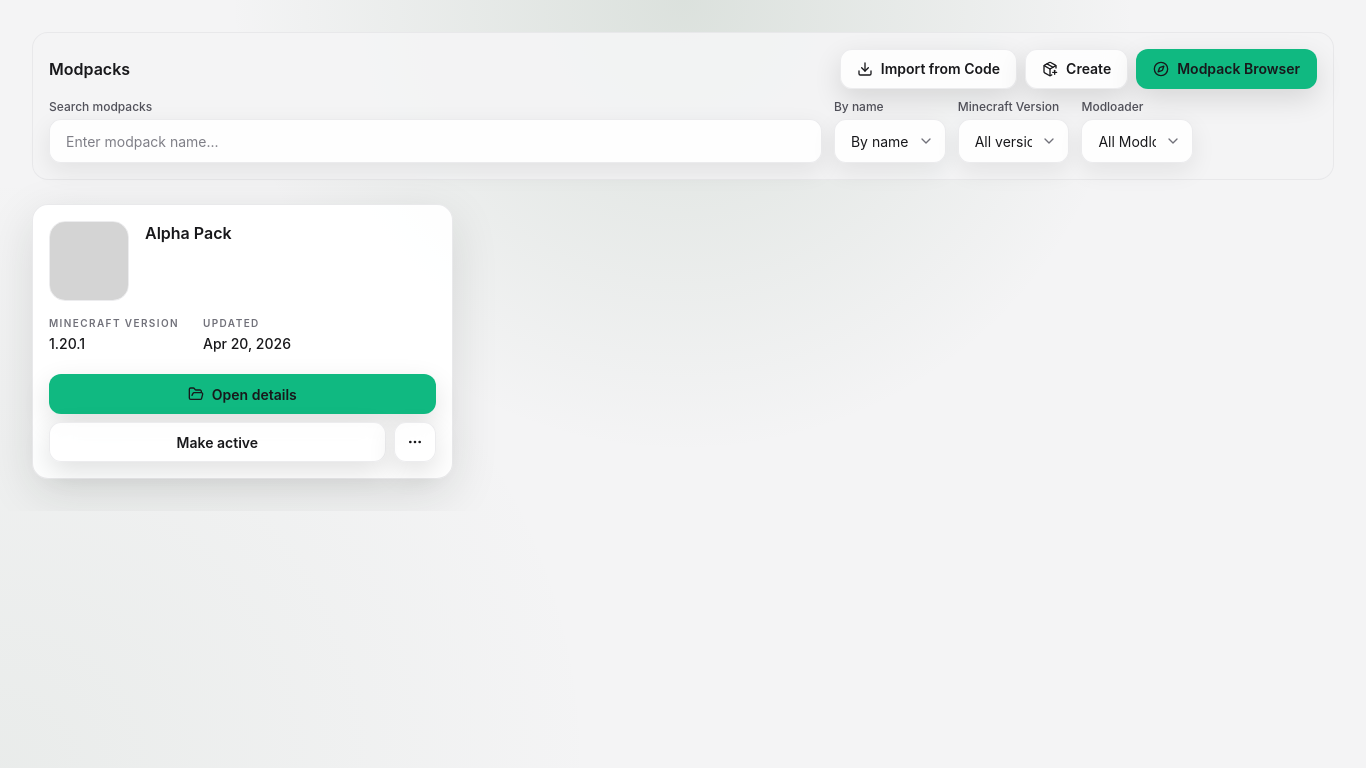
Test: ModpackList degraded states › keeps search zero-results separate from the true empty installed-catalog state
expect the heading "Alpha Pack" is shown: met, box [145, 223, 232, 243]
Step 1. Type "zzz" into the field labelled "Enter modpack name..." → (435, 141), box [49, 119, 822, 163]
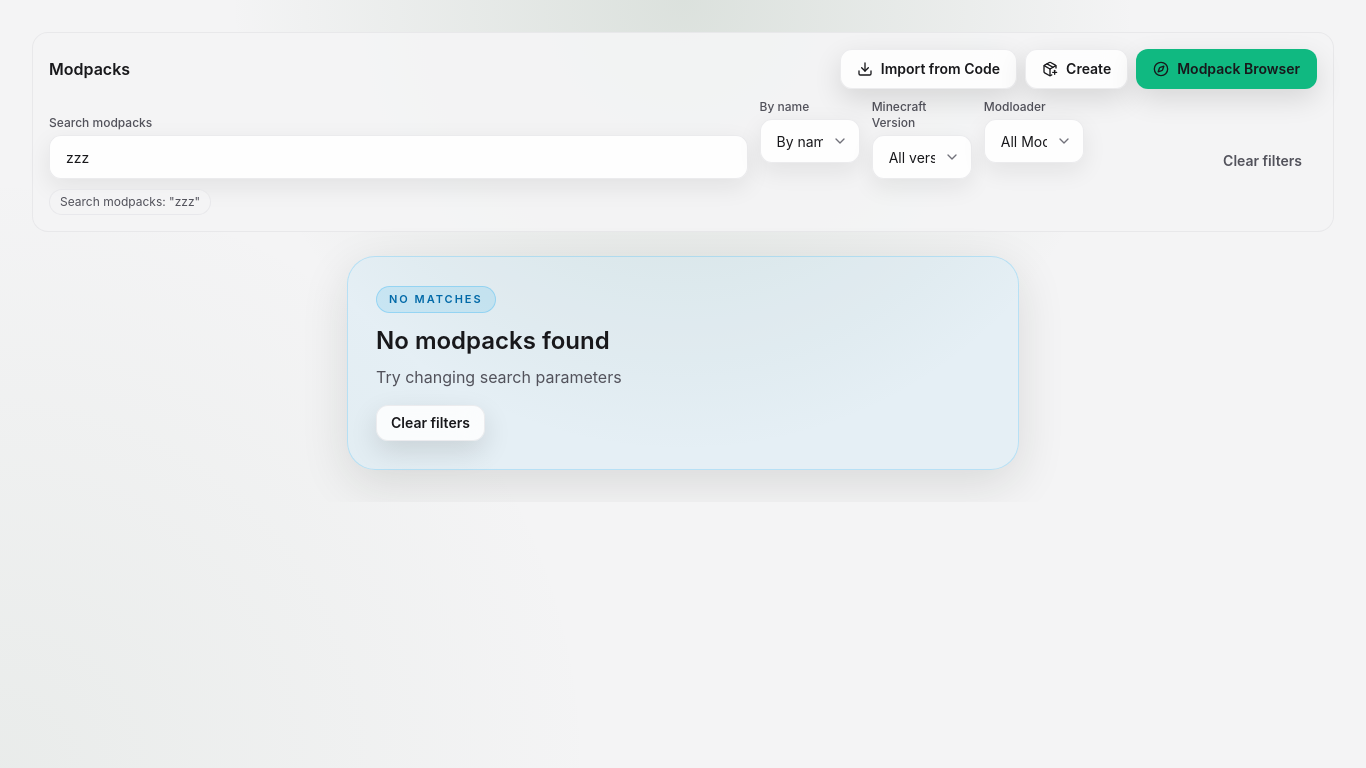
expect the message "No modpacks found" is shown: met, box [347, 256, 1019, 470]
Step 2. Click the button "Clear filters" below "Try changing search parameters" → click(430, 422), box [376, 404, 485, 440]
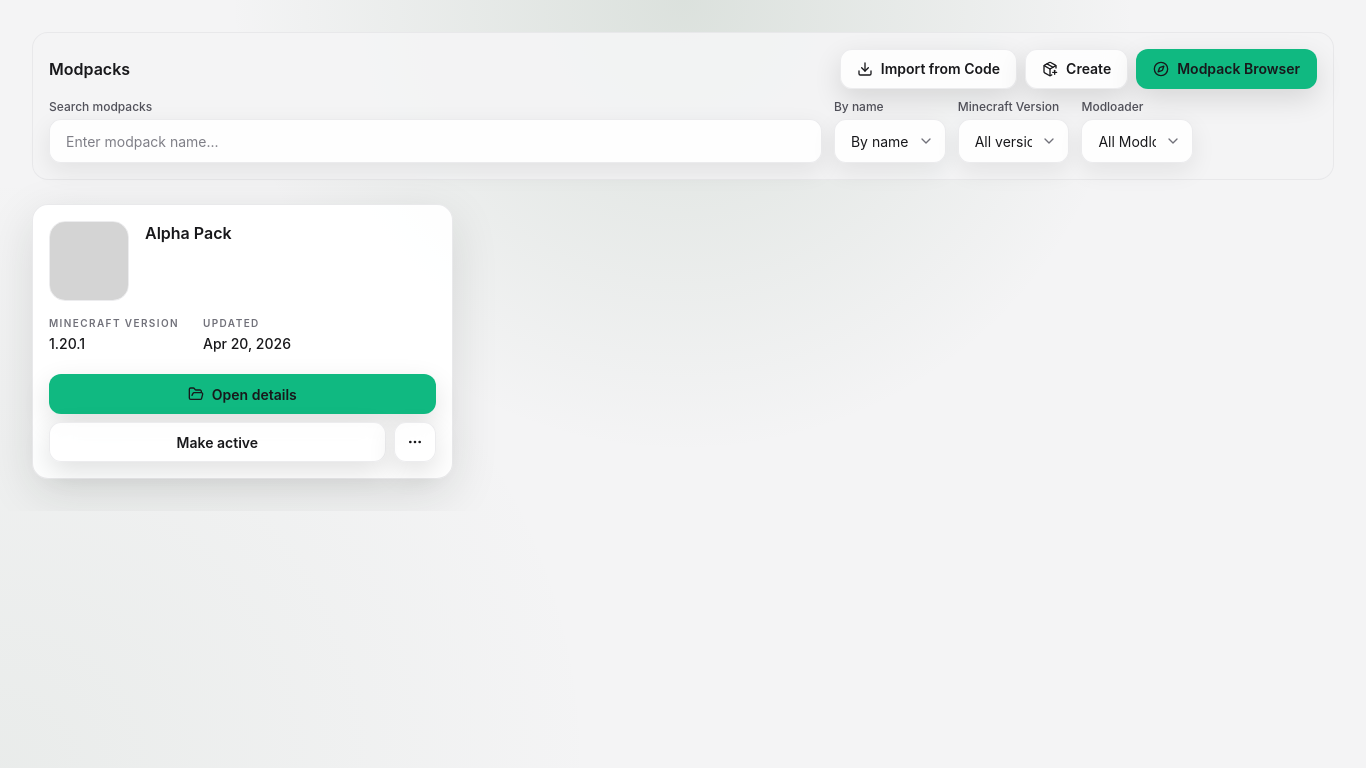
expect the field labelled "Enter modpack name..." is empty: met, box [49, 119, 822, 163]
expect the heading "Alpha Pack" is shown: met, box [145, 223, 232, 243]
